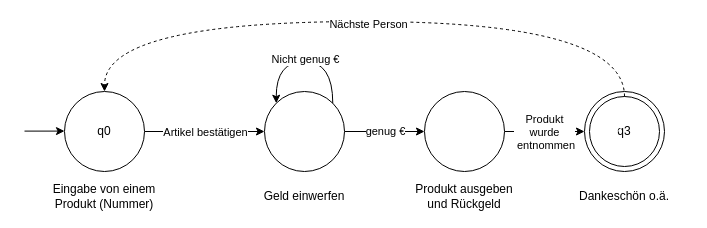
Image size: 707x228. Some labels were removed from this diagram. Each missing label, with the centre of its shape:
"q1" belongs at pixel 304 131.
"q2" belongs at pixel 464 131.
